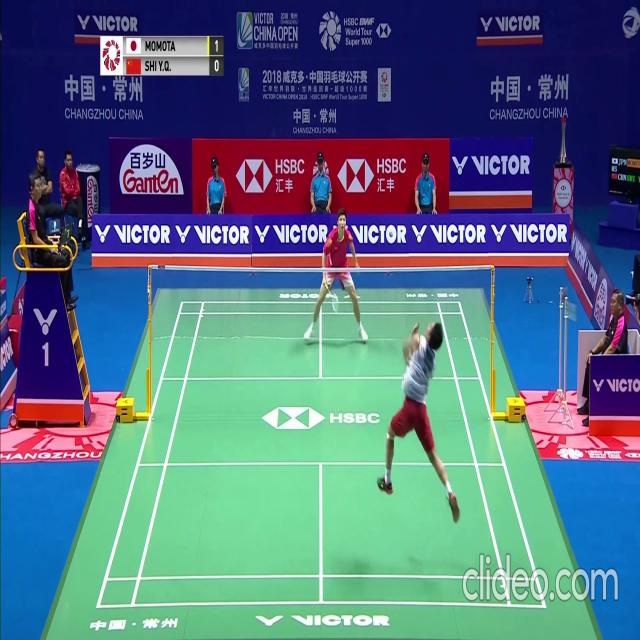Shuttlecock: (390, 229, 394, 237)
